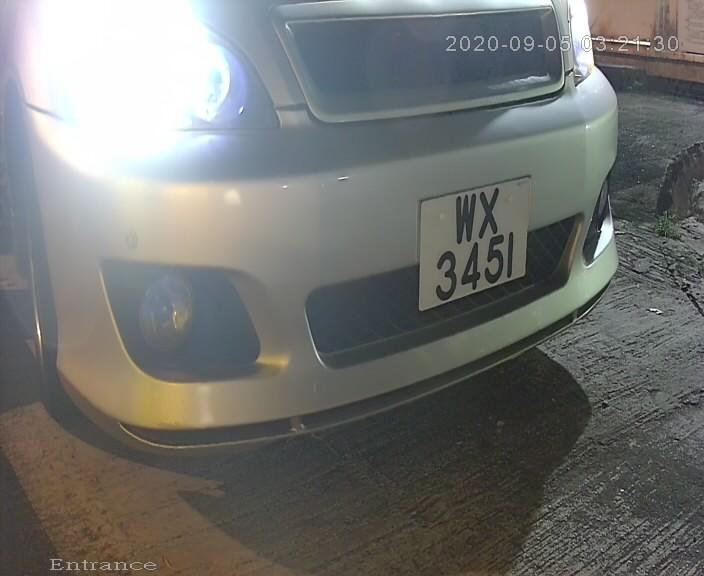License Plate: (402, 158, 540, 333)
